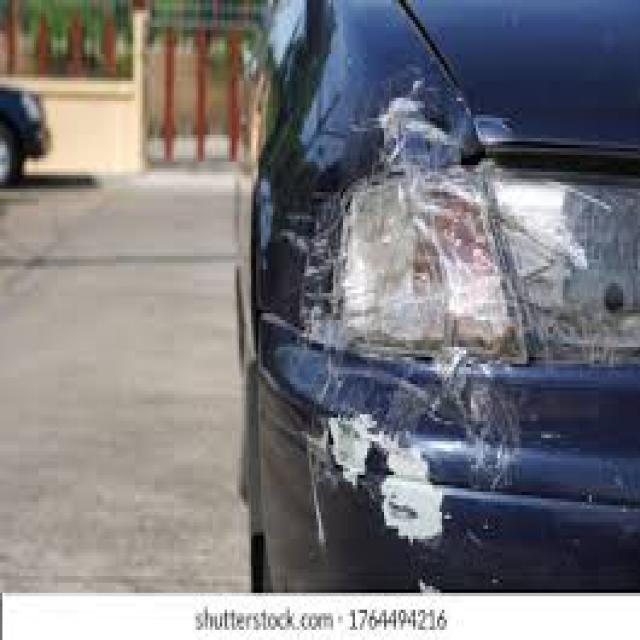Headlight-Damage: (295, 81, 534, 573)
